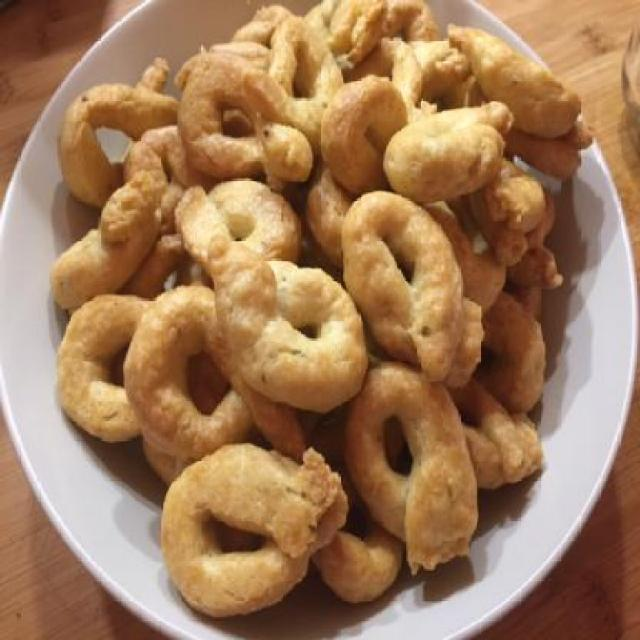Taralli: (49, 3, 594, 614)
